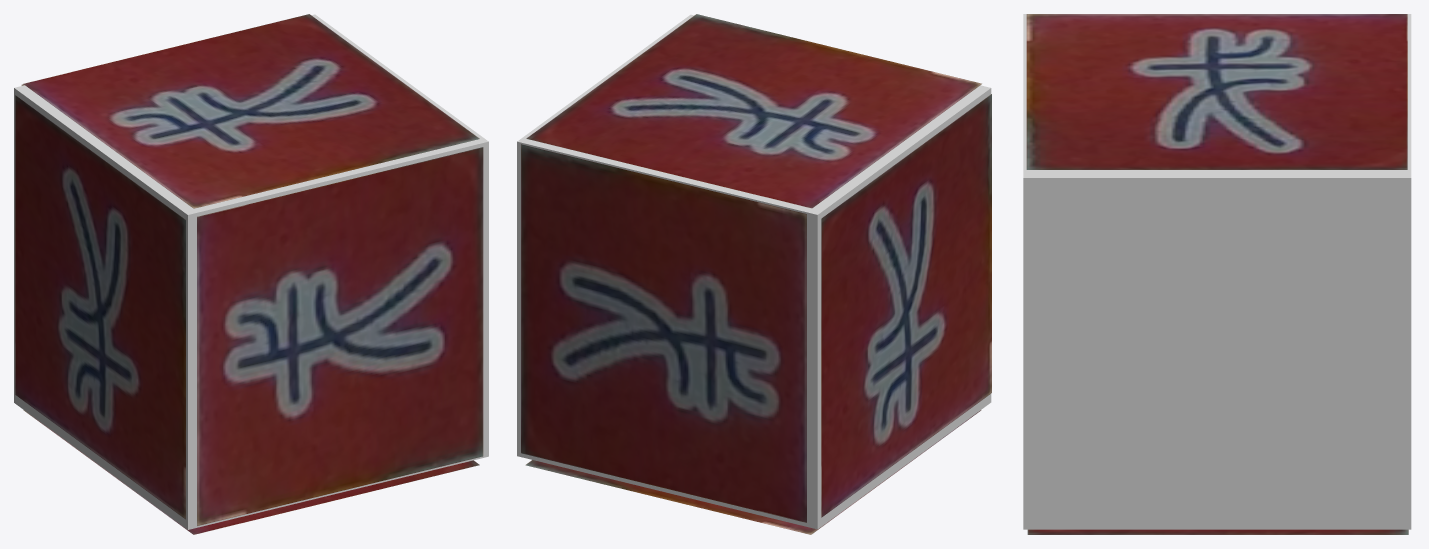
3 renders of one model, left to right at view 1: azimuth 30°, elevation 25°; view 2: azimuth 150°, elevation 25°; view 3: azimuth 270°, elevation 25°, orthographic. The views are drawn at different scales.
Parts seen in each view (by area): view 1: fake2.png.005, fake2.png.001, fake2.png.003, Link35, fake2.png.004; view 2: fake2.png.002, fake2.png.001, fake2.png.003, Link35, fake2.png.004; view 3: Link35, fake2.png.003, fake2.png.004.
Part boxes in pixels (box(x1,y1,x2,y2)): fake2.png.005: box(197, 147, 483, 525); fake2.png.001: box(15, 95, 185, 519); fake2.png.003: box(23, 14, 479, 208); Link35: box(14, 14, 488, 529); fake2.png.004: box(23, 410, 479, 534); fake2.png.002: box(521, 144, 806, 522); fake2.png.001: box(821, 94, 991, 517); fake2.png.003: box(526, 14, 981, 208); Link35: box(517, 14, 991, 529); fake2.png.004: box(525, 410, 981, 534); Link35: box(1023, 14, 1411, 529); fake2.png.003: box(1026, 14, 1407, 169); fake2.png.004: box(1027, 529, 1408, 534).
Size of the model in its own units: 0.3515 by 0.3561 by 0.3629.
Materials: 1 (1 with a texture image).
